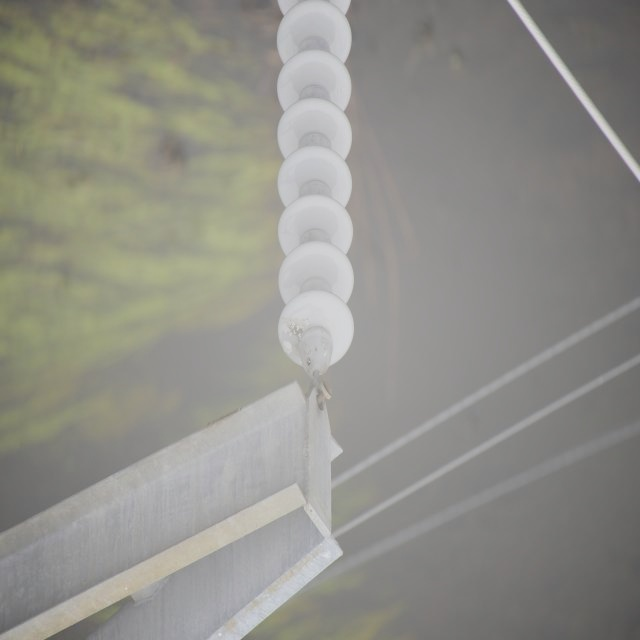insulator: (277, 0, 356, 371)
